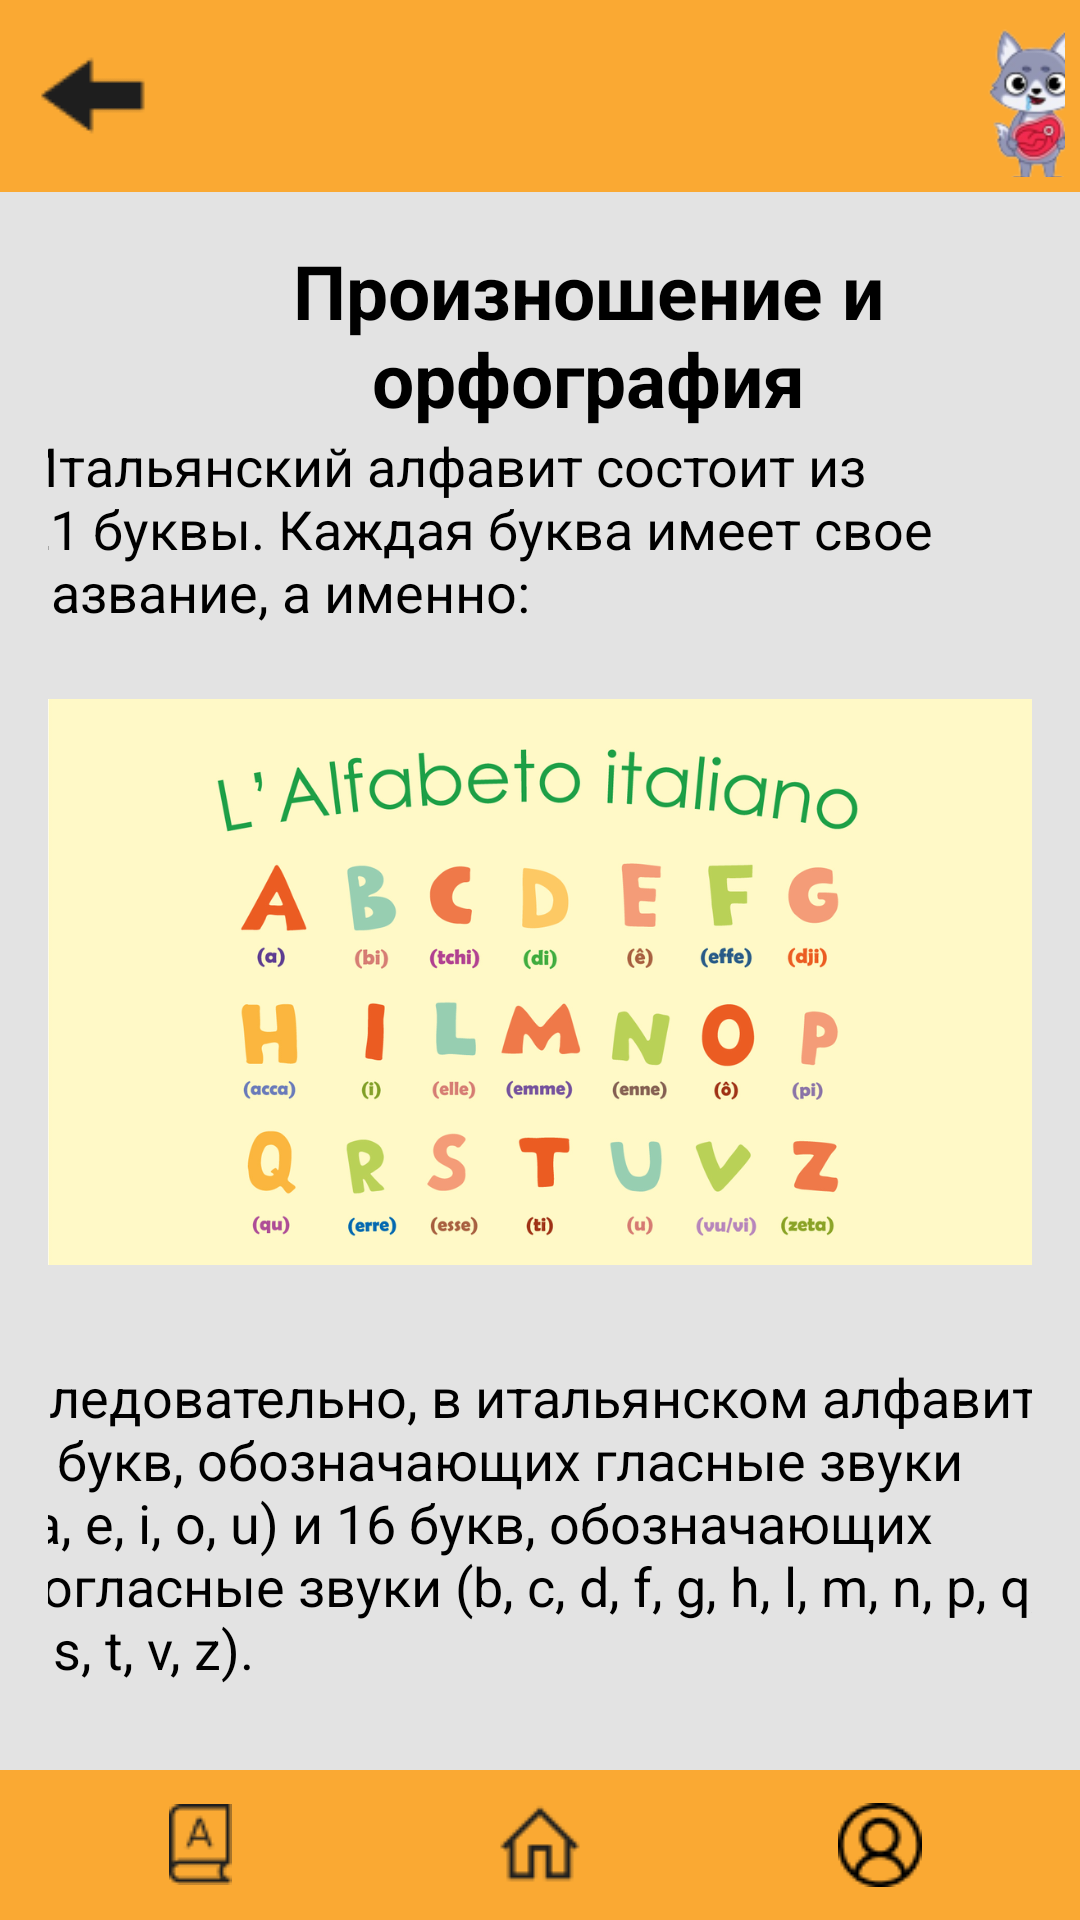

Named icons in this screenshot (1080 × 1920) and their bounding boxes, (x1, y1, x2, y2):
Аккаунт: (838, 1803, 922, 1887)
Главная: (500, 1807, 580, 1881)
Назад: (41, 58, 145, 133)
Словарь: (169, 1804, 232, 1885)
